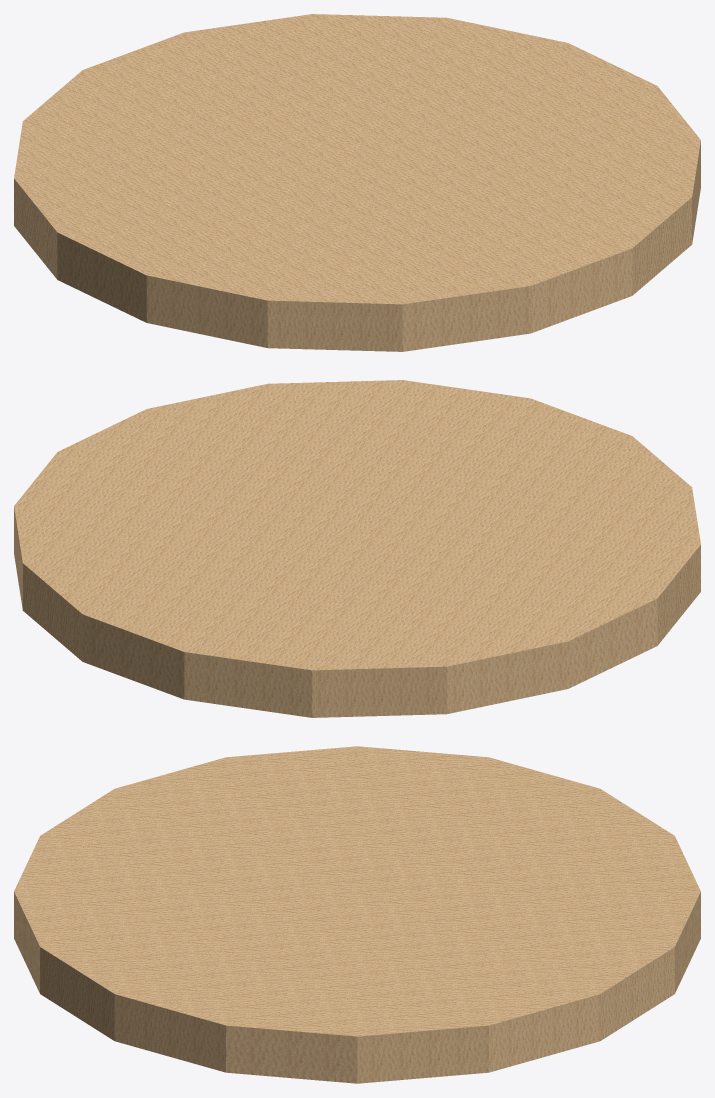
The model's file is SandIsland.gltf.
3 renders of one model, top to bottom at view 1: azimuth 30°, elevation 25°; view 2: azimuth 150°, elevation 25°; view 3: azimuth 270°, elevation 25°, orthographic.
Parts seen in each view (by area): view 1: Cylinder; view 2: Cylinder; view 3: Cylinder.
Boxes of the visible parts, bbox=[...] form: Cylinder: bbox=[14, 14, 700, 351]; Cylinder: bbox=[14, 380, 700, 717]; Cylinder: bbox=[14, 746, 700, 1083].
Size of the model in its own units: 39.6 by 7 by 39.6.
2 materials, 2 textured.
